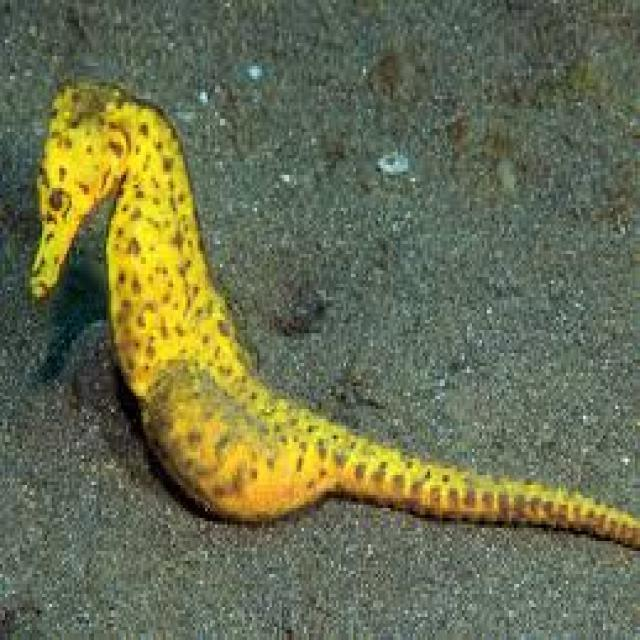SeaHorse: (30, 79, 640, 551)
